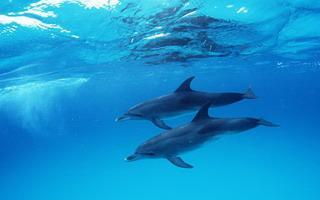fish: (122, 100, 282, 170), (116, 75, 259, 124)
